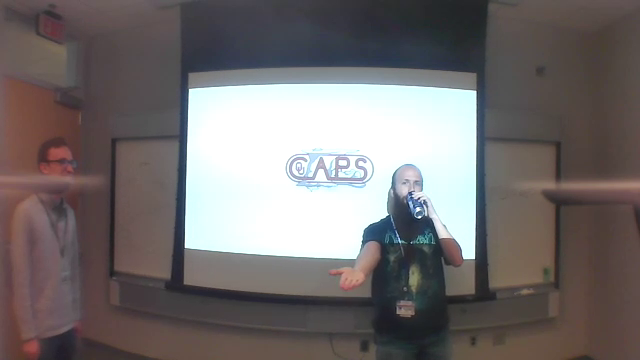land: (319, 261, 374, 299)
